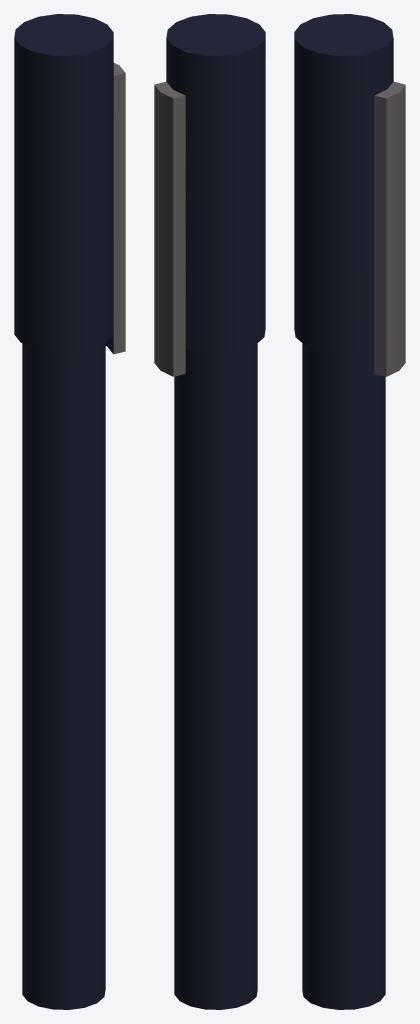
Rendered from pen1.fbx.
The picture shows the model from 3 angles, left to right: view 1: azimuth 30°, elevation 25°; view 2: azimuth 210°, elevation 25°; view 3: azimuth 330°, elevation 25°; orthographic projection.
Visible parts, largest first — view 1: 円.001; view 2: 円.001; view 3: 円.001.
Boxes of the visible parts, x1=… form: 円.001: x1=14, y1=14, x2=125, y2=1009; 円.001: x1=154, y1=14, x2=265, y2=1009; 円.001: x1=294, y1=14, x2=405, y2=1009.
Size of the model in its own units: 1.36 by 12.59 by 1.19.
